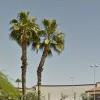Palm tree: (10, 7, 63, 89)
